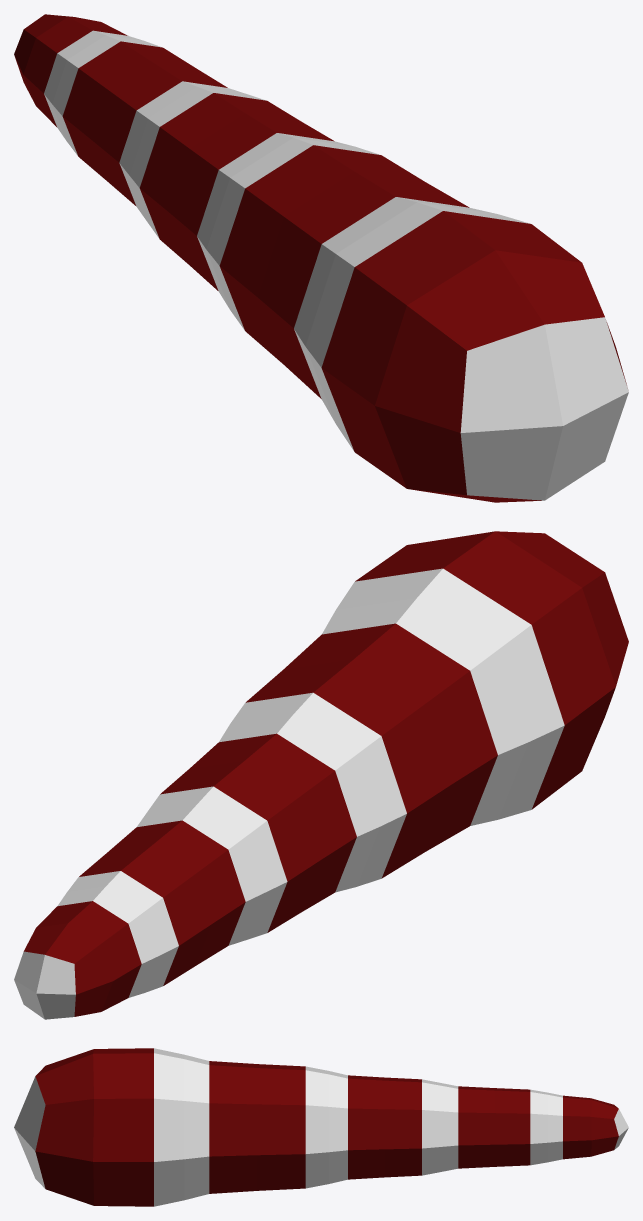
Rendered from caneshard.fbx.
3 views of the same model, one above another, from view 1: azimuth 30°, elevation 25°; view 2: azimuth 150°, elevation 25°; view 3: azimuth 270°, elevation 25° (orthographic). The views are drawn at different scales.
Parts seen in each view (by area): view 1: Cube; view 2: Cube; view 3: Cube.
Part boxes in pixels (box(x1,y1,x2,y2)): Cube: box(14, 14, 628, 502); Cube: box(14, 531, 628, 1019); Cube: box(14, 1048, 628, 1206).
Bounding box in the file's own units: 176 × 176 × 661.
